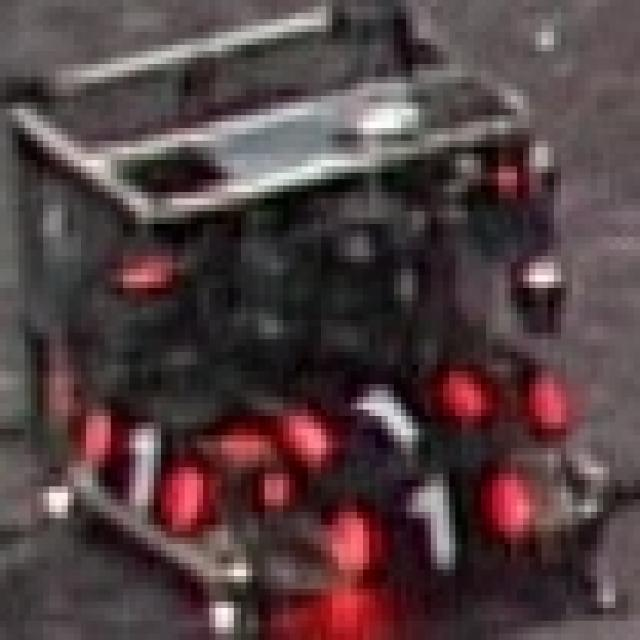R1: (327, 460, 536, 570), (283, 365, 480, 461), (74, 403, 209, 531)
